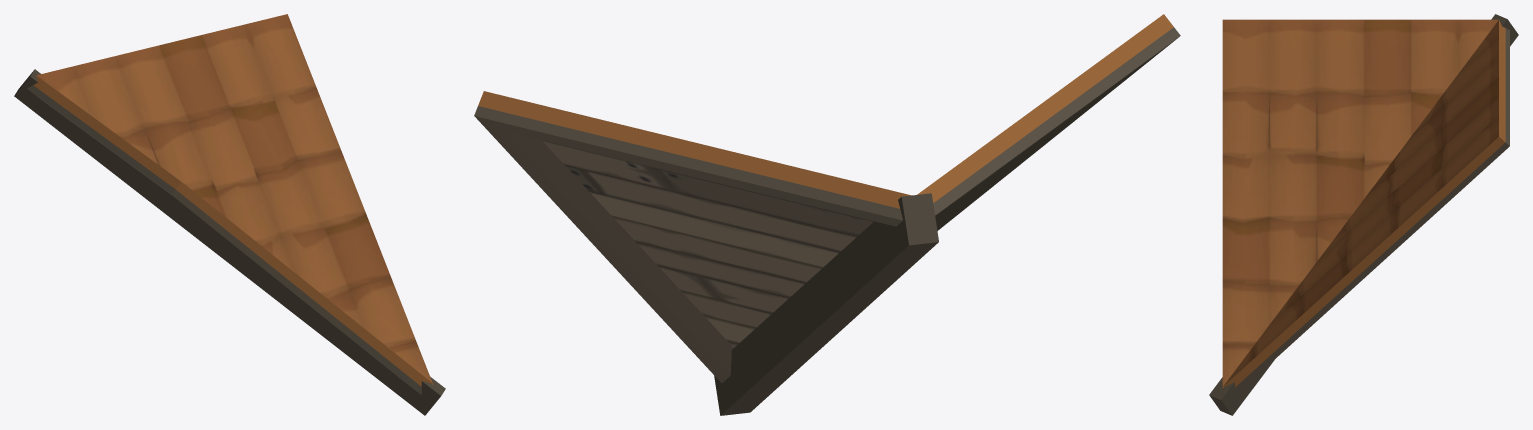
The model's file is kingdom_SM_Bld_House_Roof_Tile_Corner_01.gltf.
3 renders of one model, left to right at view 1: azimuth 30°, elevation 25°; view 2: azimuth 150°, elevation 25°; view 3: azimuth 270°, elevation 25°, orthographic. The views are drawn at different scales.
Visible parts, largest first — view 1: SM_Bld_House_Roof_Tile_Corner_01; view 2: SM_Bld_House_Roof_Tile_Corner_01; view 3: SM_Bld_House_Roof_Tile_Corner_01.
Part boxes in pixels (box(x1,y1,x2,y2)): SM_Bld_House_Roof_Tile_Corner_01: box(14, 14, 445, 415); SM_Bld_House_Roof_Tile_Corner_01: box(474, 14, 1180, 415); SM_Bld_House_Roof_Tile_Corner_01: box(1209, 14, 1518, 415).
Size of the model in its own units: 2.74 by 2.74 by 2.74.
Materials: 1 (1 with a texture image).
